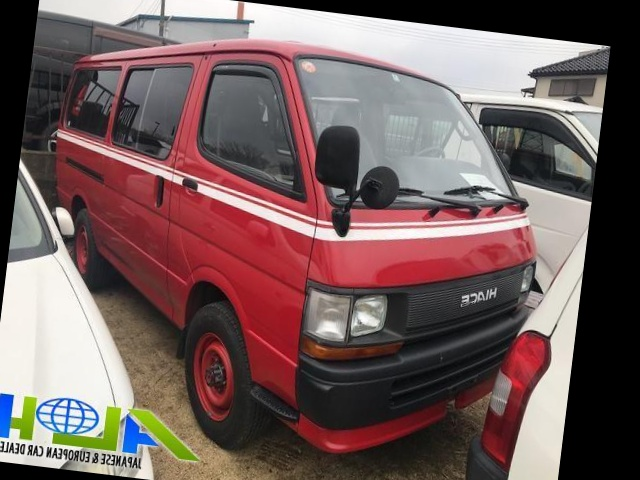van: (23, 20, 558, 459)
